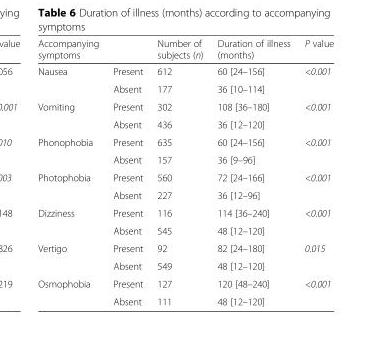table: (37, 37, 333, 306)
table column: (209, 37, 296, 306), (37, 37, 105, 306), (149, 37, 209, 306), (105, 37, 149, 306), (296, 37, 333, 306)
table column header: (37, 37, 333, 62)
table row: (37, 37, 333, 62), (37, 79, 333, 97), (37, 97, 333, 115), (37, 132, 333, 150), (37, 150, 333, 168), (37, 168, 333, 186), (37, 203, 333, 221), (37, 221, 333, 239), (37, 256, 333, 274), (37, 274, 333, 292), (37, 62, 333, 79), (37, 115, 333, 132), (37, 186, 333, 203), (37, 239, 333, 256), (37, 292, 333, 306)
table spanning cell: (37, 132, 105, 168), (37, 203, 105, 239), (37, 62, 105, 97), (37, 97, 105, 132), (37, 168, 105, 203), (37, 239, 105, 274), (37, 274, 105, 306), (296, 132, 333, 168), (296, 203, 333, 239), (296, 62, 333, 97), (296, 97, 333, 132), (296, 168, 333, 203), (296, 239, 333, 274), (296, 274, 333, 306)
